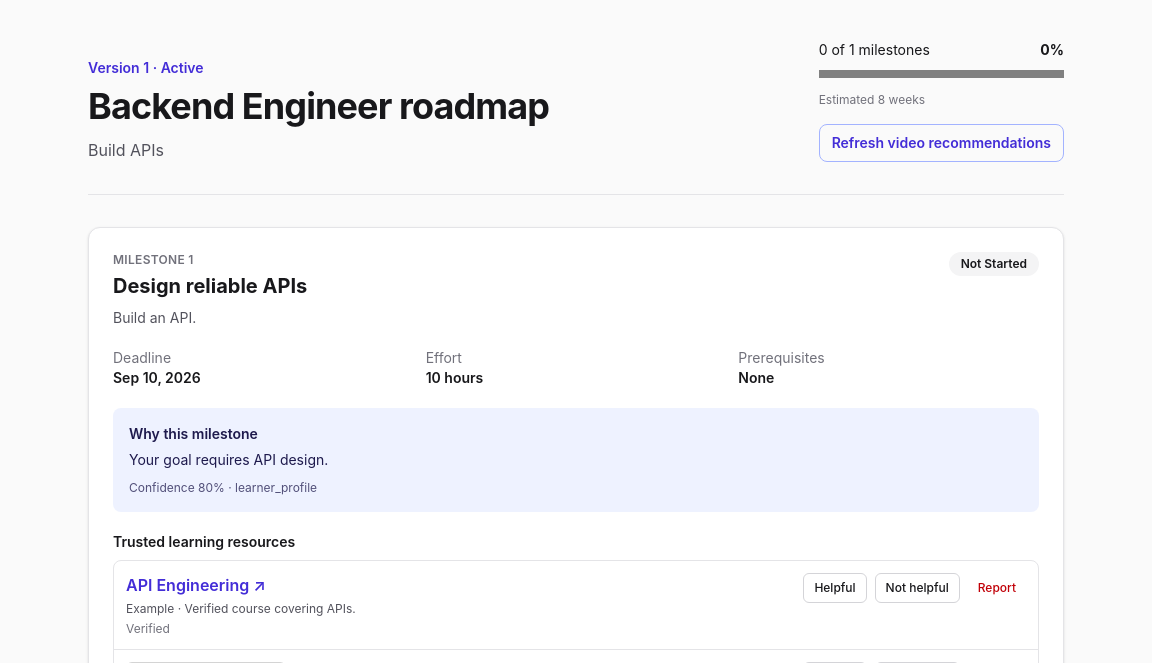
Scenario: Roadmap page › refreshes deterministic recommendations and rebuilds the active roadmap
This screenshot has width=1152, height=663.
Expected: the heading "Backend Engineer roadmap" is shown, [88, 84, 549, 128]
What coordinates should you click on to do the following:
click the button "Refresh video recommendations"
I would click on:
 (941, 143)
Its box is [819, 124, 1064, 162].
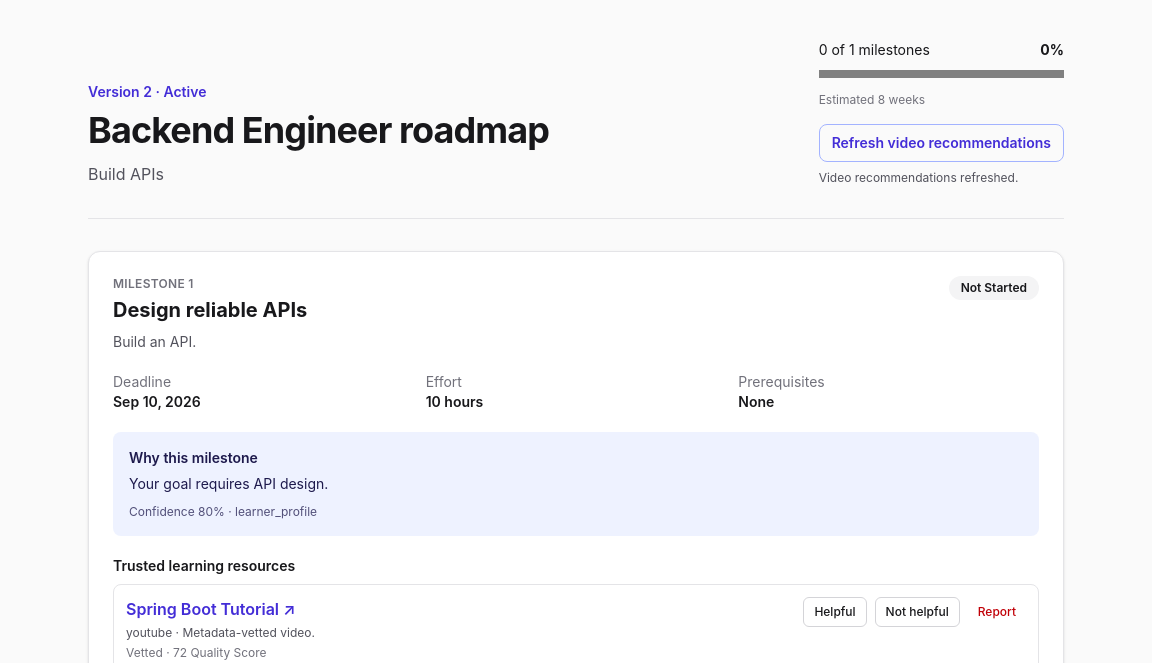
Result: the link "Spring Boot Tutorial ↗" is shown at [126, 599, 296, 619]
Result: the text "Video recommendations refreshed." is shown at [819, 170, 1018, 185]
